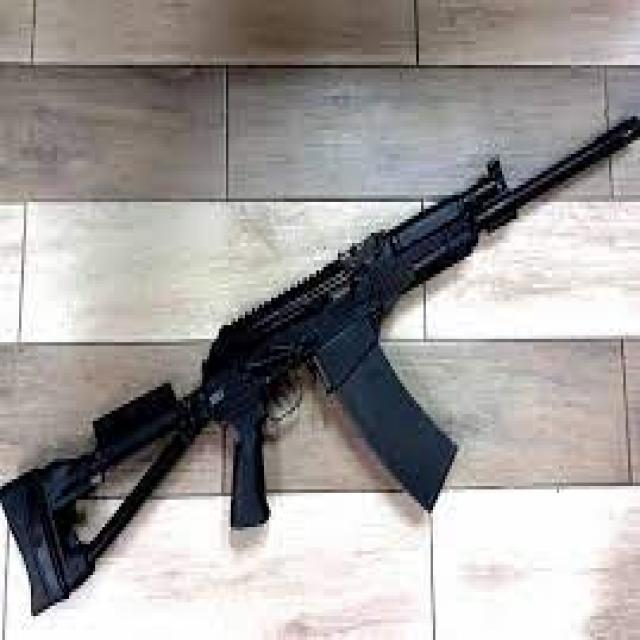weapon: (0, 116, 640, 620)
